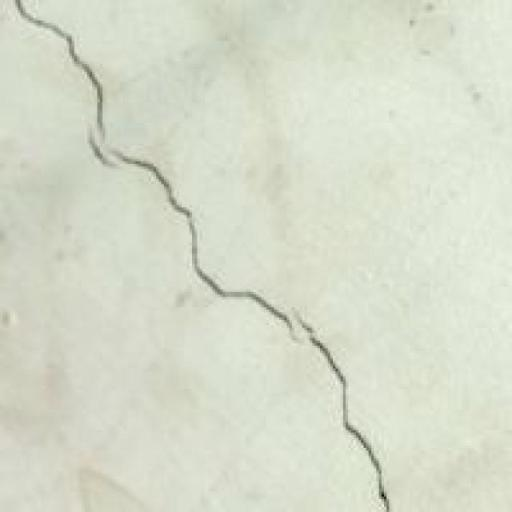minor crack: (4, 0, 409, 505), (294, 315, 384, 465), (97, 135, 197, 232), (197, 273, 299, 331), (168, 200, 226, 293), (85, 118, 124, 169)
moderate crack: (78, 466, 161, 508), (278, 305, 317, 348)
severe crack: (14, 0, 120, 157)
